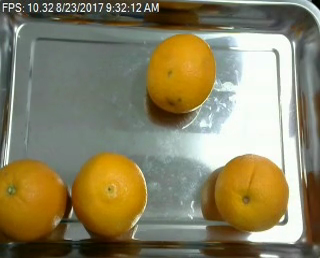Orange: (70, 152, 147, 237), (213, 152, 290, 233), (146, 34, 216, 114), (0, 160, 69, 240)
